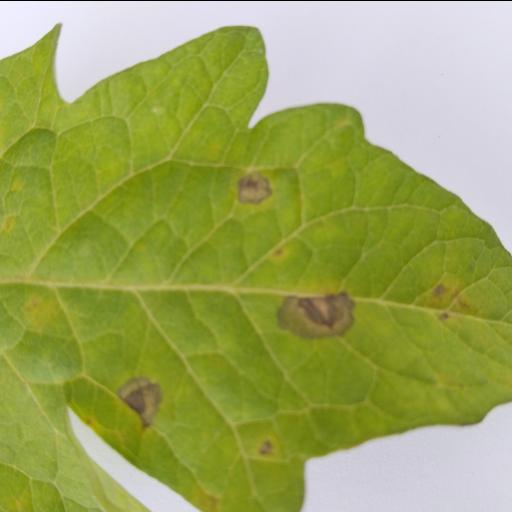disease_tomato: (0, 22, 512, 512)
